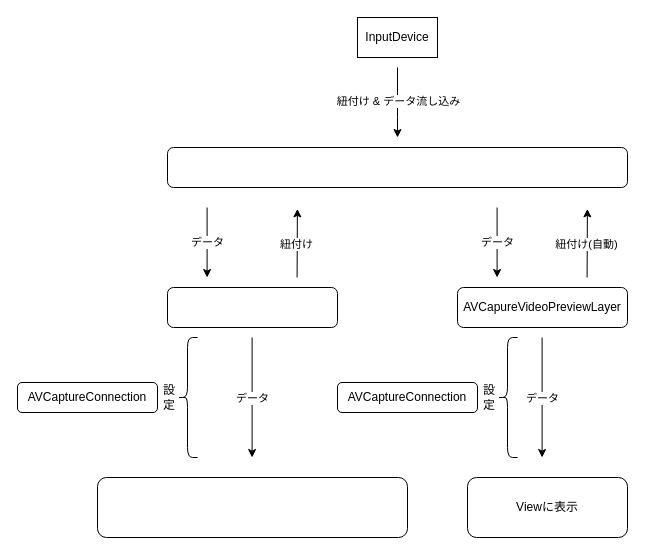
Image size: 645x555. Some labels were removed from this diagram. Here are the shapes that lost their labels. From the top down, the centre of each, then its label:
At pixel 397 167: "AVCaptureSession".
At pixel 252 307: "AVCaptureVideoDataOutput".
At pixel 252 507: "AVCaptureVideoDataOutputSampleBufferDelegate (func captureOutput)".
